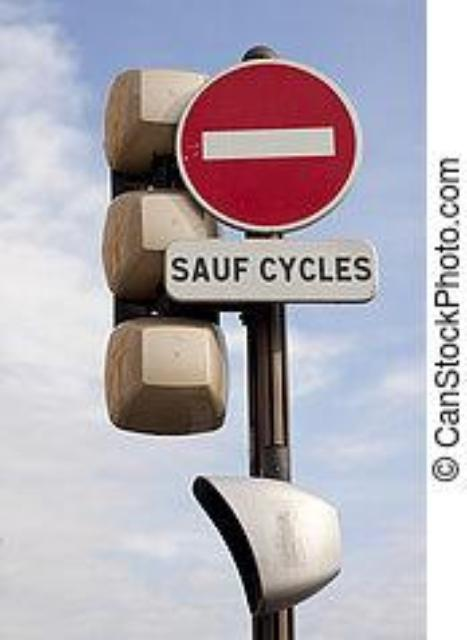B2: (169, 55, 362, 232)
